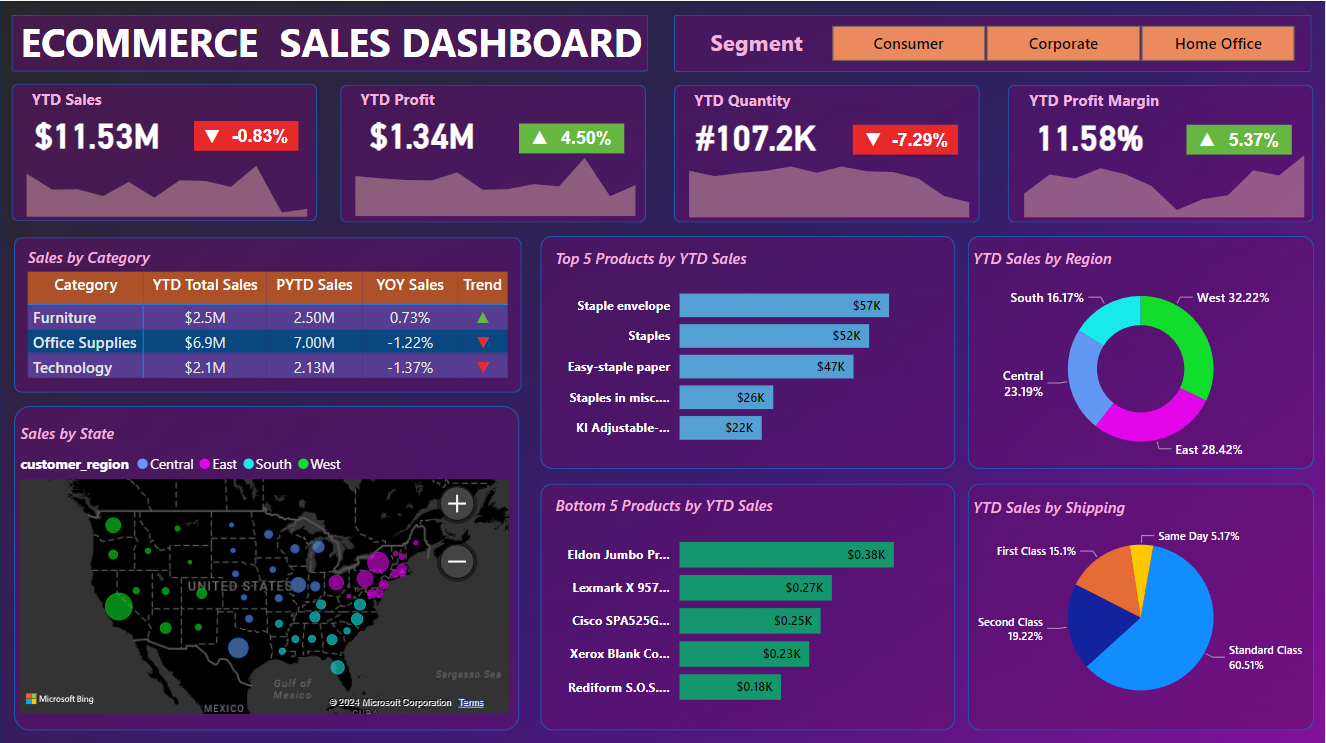

Layout of this report page (visuals, bound fields, positions):
{"tool":"powerbi","page":{"name":"Page 1","canvas":[1280,720],"ordinal":0},"visuals":[{"type":"shape","box":[12.3,13.7,614.8,54.9],"z":0},{"type":"textbox","box":[15.5,9.5,651.2,63.1],"z":1000},{"type":"shape","box":[12.1,80,295,133.1],"z":2000},{"type":"card","fields":{"Values":["ecommerce_data.YTD Total Sales"]},"box":[27,107.3,136.4,41.6],"z":3000},{"type":"areaChart","fields":{"Category":["Calendar.Month"],"Y":["Sum(ecommerce_data.sales_per_order)"]},"box":[12.1,144.5,300.5,68.6],"z":4000},{"type":"shape","box":[187.8,115.9,100.5,28.7],"z":5000},{"type":"card","fields":{"Values":["ecommerce_data.YOY Sales"]},"box":[216,117.1,72.5,29],"z":6000},{"type":"card","fields":{"Values":["ecommerce_data.Sales Icon"]},"box":[191.8,118.3,27.8,29],"z":7000},{"type":"textbox","box":[27,80,86.1,31.6],"z":8000},{"type":"shape","box":[329.4,80.3,295,133.1],"z":9000},{"type":"card","fields":{"Values":["ecommerce_data.YTD Total Profit"]},"box":[340.4,107.5,136.5,42.3],"z":10000},{"type":"areaChart","fields":{"Category":["Calendar.Month"],"Y":["Sum(ecommerce_data.profit_per_order)"]},"box":[329.8,130.4,300,82.5],"z":11000},{"type":"shape","box":[502.2,118.3,101.5,29],"z":12000},{"type":"card","fields":{"Values":["ecommerce_data.YOY Profit"]},"box":[531.2,119.7,72.5,29],"z":13000},{"type":"card","fields":{"Values":["ecommerce_data.Profit Icon"]},"box":[508.1,119.7,27.8,29],"z":14000},{"type":"textbox","box":[343.8,80,92.5,32.5],"z":15000},{"type":"shape","box":[651.4,81.3,295,133.1],"z":16000},{"type":"card","fields":{"Values":["ecommerce_data.YTD Conacatenated"]},"box":[662.4,108.5,136.5,42.3],"z":17000},{"type":"areaChart","fields":{"Category":["Calendar.Month"],"Y":["Sum(ecommerce_data.order_quantity)"]},"box":[651.8,131.4,300,82.5],"z":18000},{"type":"shape","box":[824.2,119.3,101.5,29],"z":19000},{"type":"card","fields":{"Values":["ecommerce_data.YOY Qty"]},"box":[853.2,120.7,72.5,29],"z":20000},{"type":"card","fields":{"Values":["ecommerce_data.Qty Icon"]},"box":[830.1,120.7,27.8,29],"z":21000},{"type":"textbox","box":[666.2,81.2,111.2,31.2],"z":22000},{"type":"shape","box":[973.8,80.9,295,133.1],"z":23000},{"type":"card","fields":{"Values":["ecommerce_data.YTD Profit Margin"]},"box":[984.8,108,136.5,42.3],"z":24000},{"type":"areaChart","fields":{"Category":["Calendar.Month"],"Y":["ecommerce_data.Profit Margin"]},"box":[974.2,131,300,82.5],"z":25000},{"type":"shape","box":[1146.7,118.9,101.5,29],"z":26000},{"type":"card","fields":{"Values":["ecommerce_data.YOY Profit Margin"]},"box":[1175.7,120.3,72.5,29],"z":27000},{"type":"card","fields":{"Values":["ecommerce_data.Profit Margin Icon"]},"box":[1152.5,120.3,27.8,29],"z":28000},{"type":"textbox","box":[988.8,81.2,157.5,31.2],"z":29000},{"type":"shape","box":[15,227.9,490,150],"z":30000},{"type":"pivotTable","title":"Sales by Category","fields":{"Rows":["ecommerce_data.category_name"],"Values":["ecommerce_data.YTD Total Sales","ecommerce_data.PYTD Sales","ecommerce_data.YOY Sales","ecommerce_data.Sales Icon"]},"box":[22.5,236.6,475,132.5],"z":31000},{"type":"shape","box":[14.7,390.7,487.8,313.3],"z":32000},{"type":"map","title":"Sales by State","fields":{"Category":["ecommerce_data.customer_state"],"Series":["ecommerce_data.customer_region"],"Size":["ecommerce_data.Total Sales"]},"box":[16,406.7,481.6,286.3],"z":33000},{"type":"shape","box":[522.2,227.3,400.5,224.8],"z":34000},{"type":"shape","box":[522.2,465.7,400.5,238.4],"z":35000},{"type":"barChart","title":"Top 5 Products by YTD Sales","fields":{"Category":["ecommerce_data.product_name"],"Y":["ecommerce_data.YTD Total Sales"]},"box":[531.7,237.3,376.5,203.6],"z":36000},{"type":"barChart","title":"Bottom 5 Products by YTD Sales","fields":{"Category":["ecommerce_data.product_name"],"Y":["ecommerce_data.YTD Total Sales"]},"box":[531.7,476.1,376.5,216.8],"z":37000},{"type":"shape","box":[935,227.3,334.2,224.8],"z":38000},{"type":"shape","box":[935,465.7,334.2,238.4],"z":39000},{"type":"donutChart","title":"YTD Sales by Region","fields":{"Category":["ecommerce_data.customer_region"],"Y":["ecommerce_data.YTD Total Sales"]},"box":[935,237.1,334.2,215],"z":40000},{"type":"pieChart","title":"YTD Sales by Shipping","fields":{"Y":["ecommerce_data.YTD Total Sales"],"Category":["ecommerce_data.shipping_type"]},"box":[935,477.9,334.2,215],"z":41000},{"type":"shape","box":[651.2,13.5,615.6,55.3],"z":42000},{"type":"slicer","fields":{"Values":["ecommerce_data.customer_segment"]},"box":[777.7,17.2,496.4,47.9],"z":43000},{"type":"textbox","box":[681.9,20.9,110.6,39.3],"z":44000}]}

Visuals, with their boxes in screenshot pixels (x1, y1, x2, y2), scaled from the page's 1280x720 canvas onto the 1326x743 screenshot:
shape: l=13, t=14, r=650, b=71
textbox: l=16, t=10, r=691, b=75
shape: l=13, t=83, r=318, b=220
card - ecommerce_data.YTD Total Sales: l=28, t=111, r=169, b=154
areaChart - Calendar.Month x Sum(ecommerce_data.sales_per_order): l=13, t=149, r=324, b=220
shape: l=195, t=120, r=299, b=149
card - ecommerce_data.YOY Sales: l=224, t=121, r=299, b=151
card - ecommerce_data.Sales Icon: l=199, t=122, r=227, b=152
textbox: l=28, t=83, r=117, b=115
shape: l=341, t=83, r=647, b=220
card - ecommerce_data.YTD Total Profit: l=353, t=111, r=494, b=155
areaChart - Calendar.Month x Sum(ecommerce_data.profit_per_order): l=342, t=135, r=652, b=220
shape: l=520, t=122, r=625, b=152
card - ecommerce_data.YOY Profit: l=550, t=124, r=625, b=153
card - ecommerce_data.Profit Icon: l=526, t=124, r=555, b=153
textbox: l=356, t=83, r=452, b=116
shape: l=675, t=84, r=980, b=221
card - ecommerce_data.YTD Conacatenated: l=686, t=112, r=828, b=156
areaChart - Calendar.Month x Sum(ecommerce_data.order_quantity): l=675, t=136, r=986, b=221
shape: l=854, t=123, r=959, b=153
card - ecommerce_data.YOY Qty: l=884, t=125, r=959, b=154
card - ecommerce_data.Qty Icon: l=860, t=125, r=889, b=154
textbox: l=690, t=84, r=805, b=116
shape: l=1009, t=83, r=1314, b=221
card - ecommerce_data.YTD Profit Margin: l=1020, t=111, r=1162, b=155
areaChart - Calendar.Month x ecommerce_data.Profit Margin: l=1009, t=135, r=1320, b=220
shape: l=1188, t=123, r=1293, b=153
card - ecommerce_data.YOY Profit Margin: l=1218, t=124, r=1293, b=154
card - ecommerce_data.Profit Margin Icon: l=1194, t=124, r=1223, b=154
textbox: l=1024, t=84, r=1187, b=116
shape: l=16, t=235, r=523, b=390
"Sales by Category" pivotTable: l=23, t=244, r=515, b=381
shape: l=15, t=403, r=521, b=726
"Sales by State" map: l=17, t=420, r=515, b=715
shape: l=541, t=235, r=956, b=467
shape: l=541, t=481, r=956, b=727
"Top 5 Products by YTD Sales" barChart: l=551, t=245, r=941, b=455
"Bottom 5 Products by YTD Sales" barChart: l=551, t=491, r=941, b=715
shape: l=969, t=235, r=1315, b=467
shape: l=969, t=481, r=1315, b=727
"YTD Sales by Region" donutChart: l=969, t=245, r=1315, b=467
"YTD Sales by Shipping" pieChart: l=969, t=493, r=1315, b=715
shape: l=675, t=14, r=1312, b=71
slicer - ecommerce_data.customer_segment: l=806, t=18, r=1320, b=67
textbox: l=706, t=22, r=821, b=62
